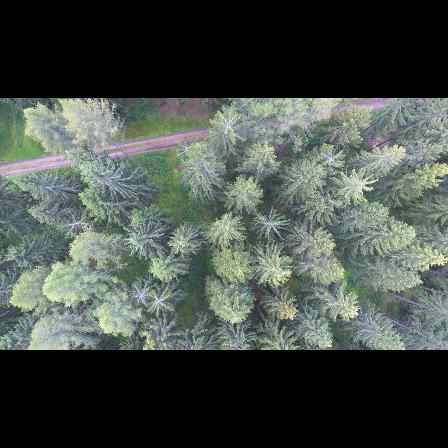Sick: (255, 206, 289, 238), (210, 108, 244, 138), (144, 290, 179, 314), (172, 137, 199, 160), (127, 281, 154, 303), (318, 149, 344, 169)
